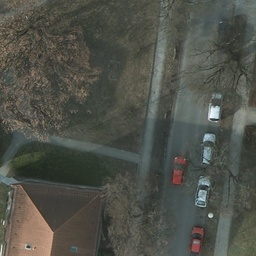car: (207, 91, 224, 123), (201, 133, 217, 167), (169, 157, 188, 184), (195, 176, 211, 208), (188, 227, 204, 253)
